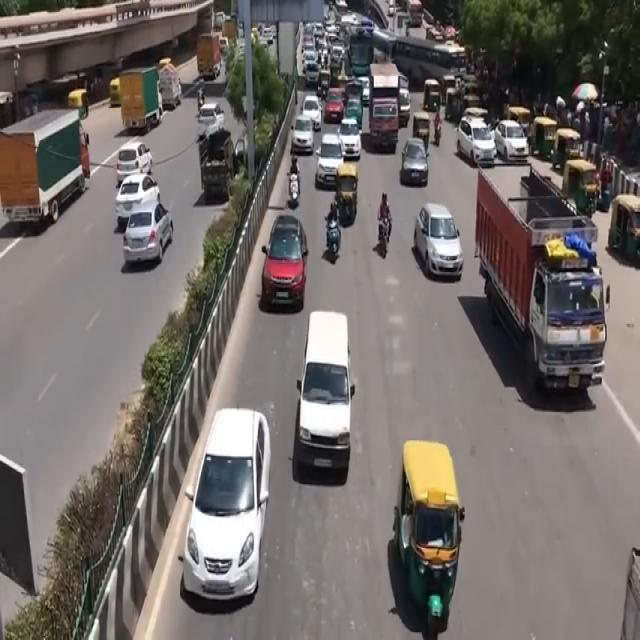BUS: (365, 64, 401, 153), (346, 17, 374, 79)
CMT: (292, 308, 356, 492)
MOTORCYCLE: (328, 218, 341, 262), (376, 220, 391, 255)
TRUCK: (470, 172, 604, 402), (0, 112, 82, 242), (120, 68, 162, 137), (196, 35, 224, 82)
